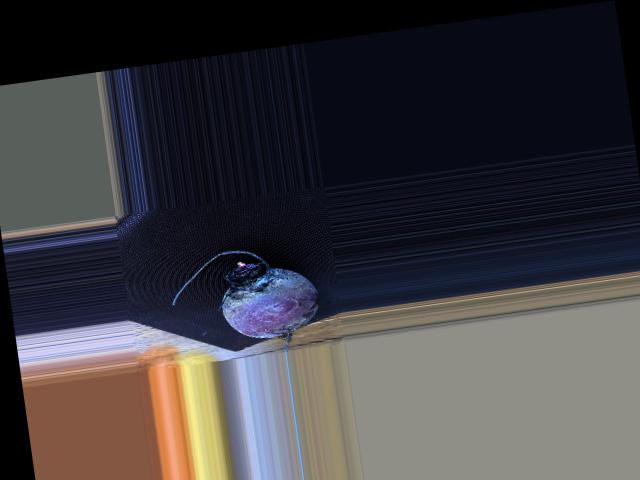beet: (166, 239, 326, 366)
